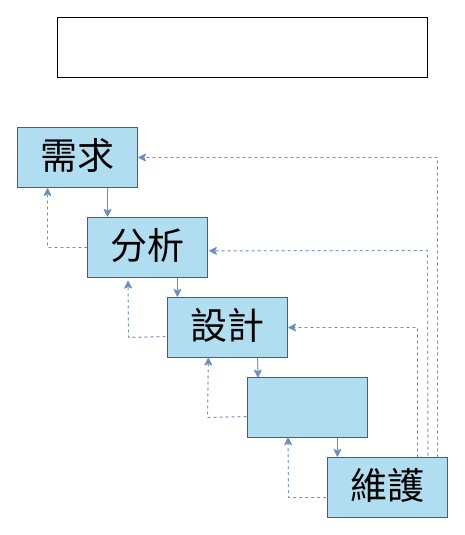
The diagram is 465 pixels wide and 535 high, and some of its shapes have lost their labels. The shapes that lost their labels are listed below. From the top down, each one's centre as x and y in pixels, then its label:
At [242,47]: "瀑布式軟體發整程序".
At [307,407]: "製作".
